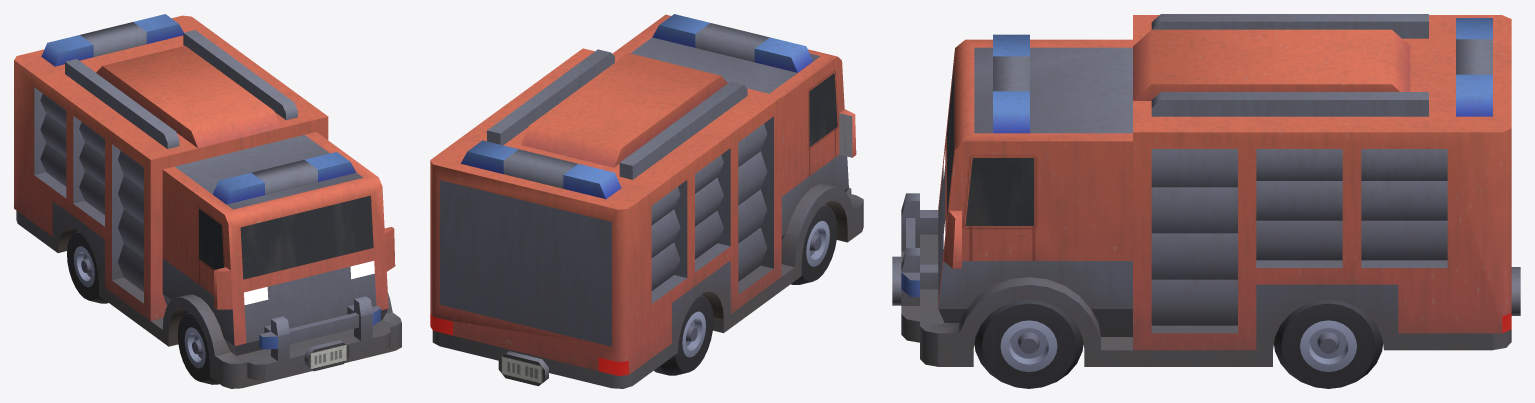
Rendered from firetruck-L2.glb.
The picture shows the model from 3 angles, left to right: view 1: azimuth 30°, elevation 25°; view 2: azimuth 150°, elevation 25°; view 3: azimuth 270°, elevation 25°; orthographic projection. The views are drawn at different scales.
Visible parts, largest first — view 1: body, grill, wheel-front-right, wheel-back-right; view 2: body, wheel-back-right, wheel-front-right; view 3: body, wheel-front-left, wheel-back-left, grill.
Boxes of the visible parts, x1,y1,x2,y2 form: body: (14,14,401,388); grill: (247,296,390,380); wheel-front-right: (177,312,219,384); wheel-back-right: (67,230,108,303); body: (430,14,863,388); wheel-back-right: (654,294,713,375); wheel-front-right: (791,203,837,284); body: (920,14,1520,366); wheel-front-left: (974,300,1083,388); wheel-back-left: (1274,300,1382,388); grill: (892,193,938,342).
Size of the model in its own units: 1.5 by 1.7 by 3.4.
Materials: 6 (6 with a texture image).
